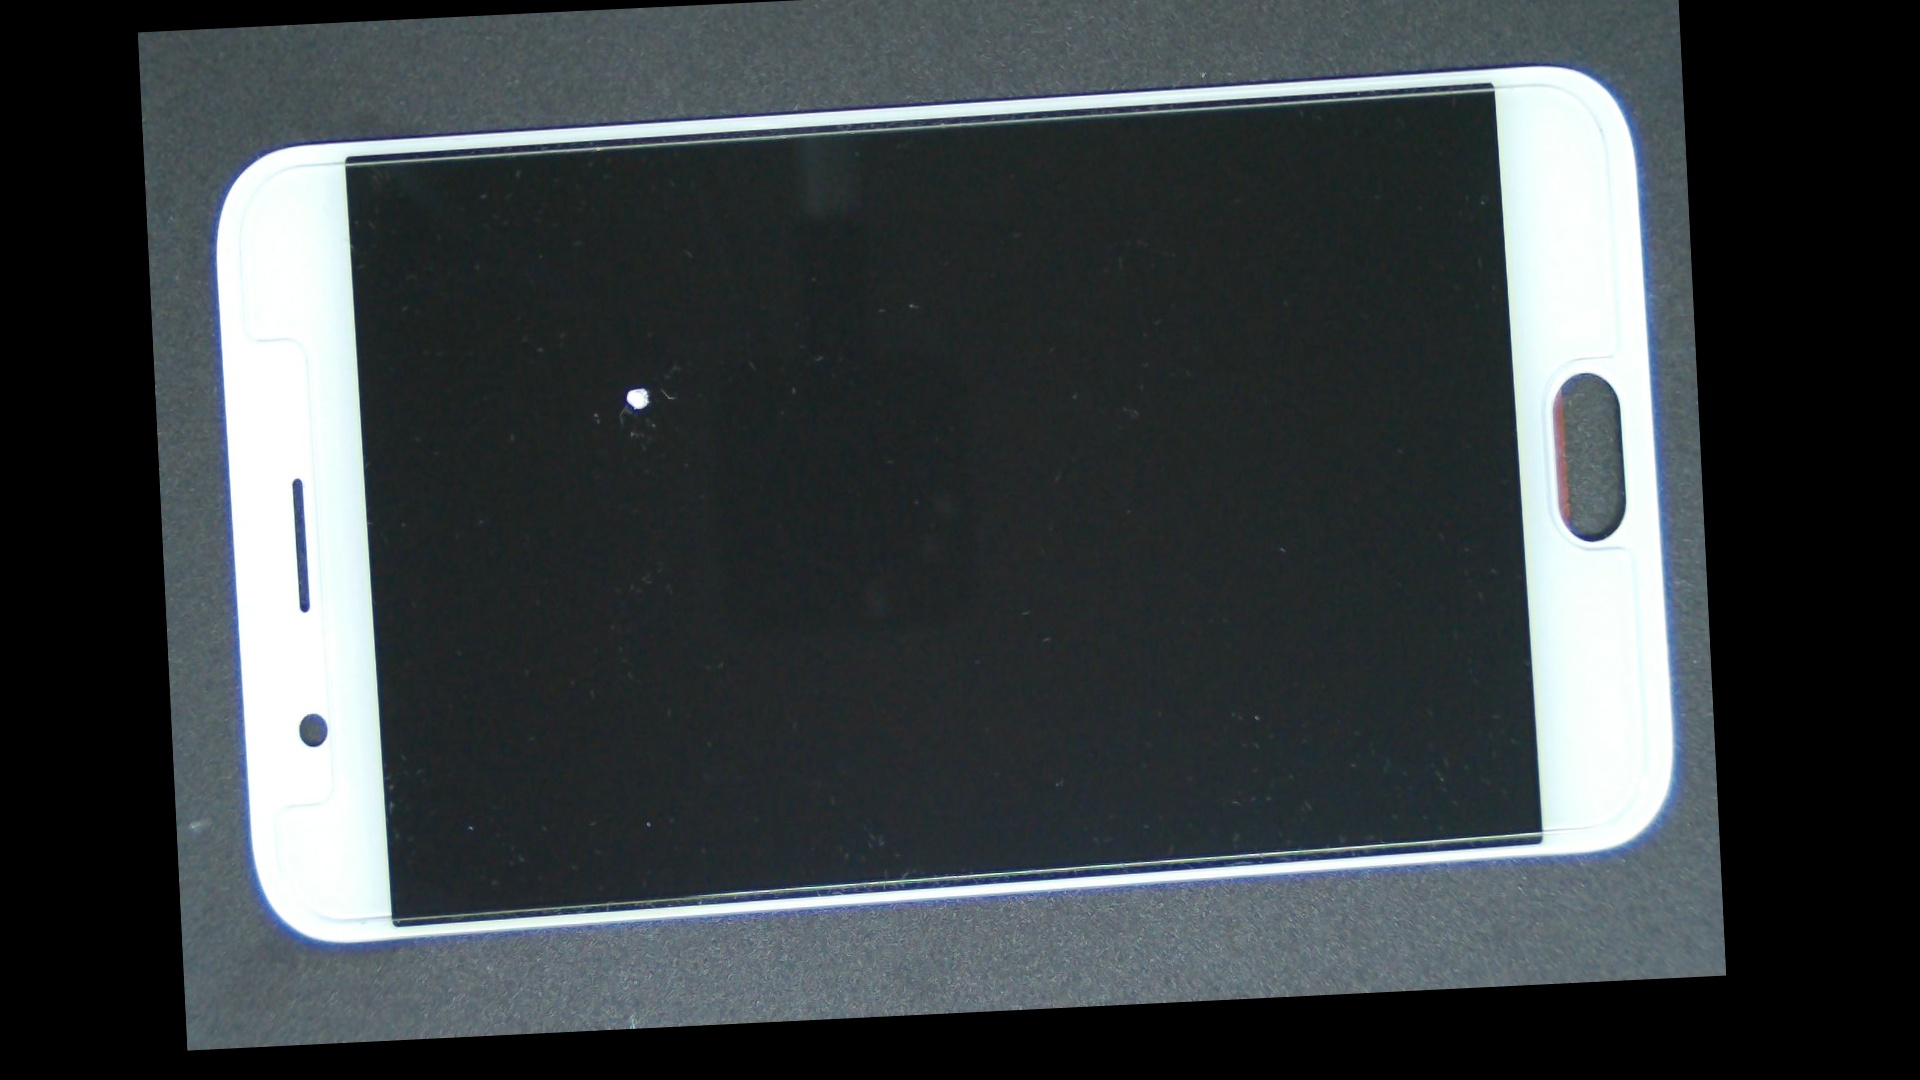oil: (389, 186, 890, 588)
